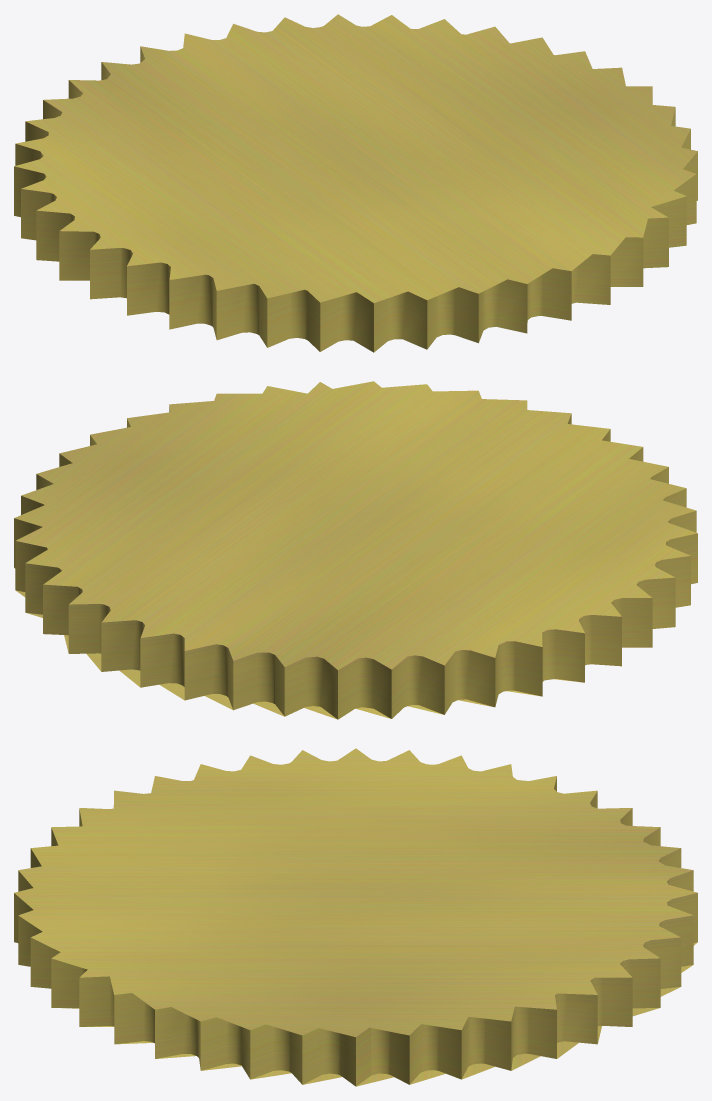
File: Sprocket5Spoke040.fbx
3 renders of one model, top to bottom at view 1: azimuth 30°, elevation 25°; view 2: azimuth 150°, elevation 25°; view 3: azimuth 270°, elevation 25°, orthographic.
Visible parts, largest first — view 1: Sprocket5Spoke040; view 2: Sprocket5Spoke040; view 3: Sprocket5Spoke040.
Part boxes in pixels (x1,y1,x2,y2): Sprocket5Spoke040: (14,14,697,352); Sprocket5Spoke040: (14,381,697,719); Sprocket5Spoke040: (14,748,697,1086).
Size of the model in its own units: 247 by 19.69 by 247.
